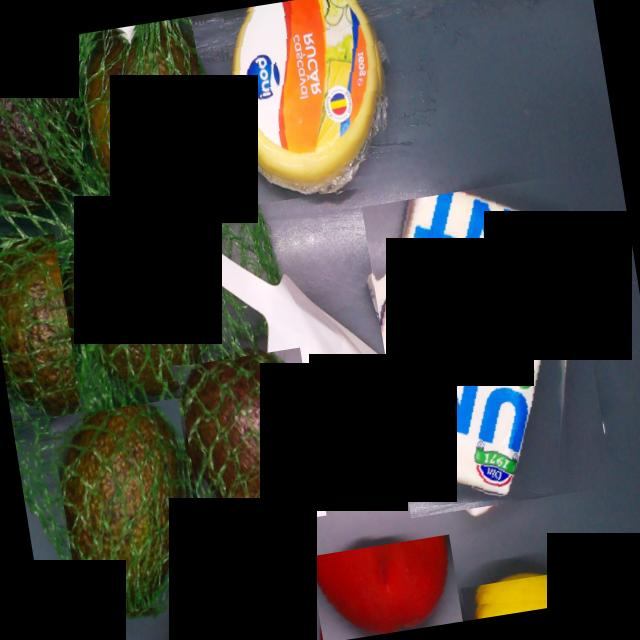avocado: (50, 398, 210, 620), (176, 348, 326, 535), (74, 16, 218, 208), (70, 242, 202, 397), (0, 37, 90, 222), (0, 233, 82, 423)
butter: (361, 175, 612, 518)
cheese: (222, 0, 399, 204)
lemon: (459, 563, 626, 621)
tomatoes: (310, 534, 463, 640), (150, 583, 307, 640)
